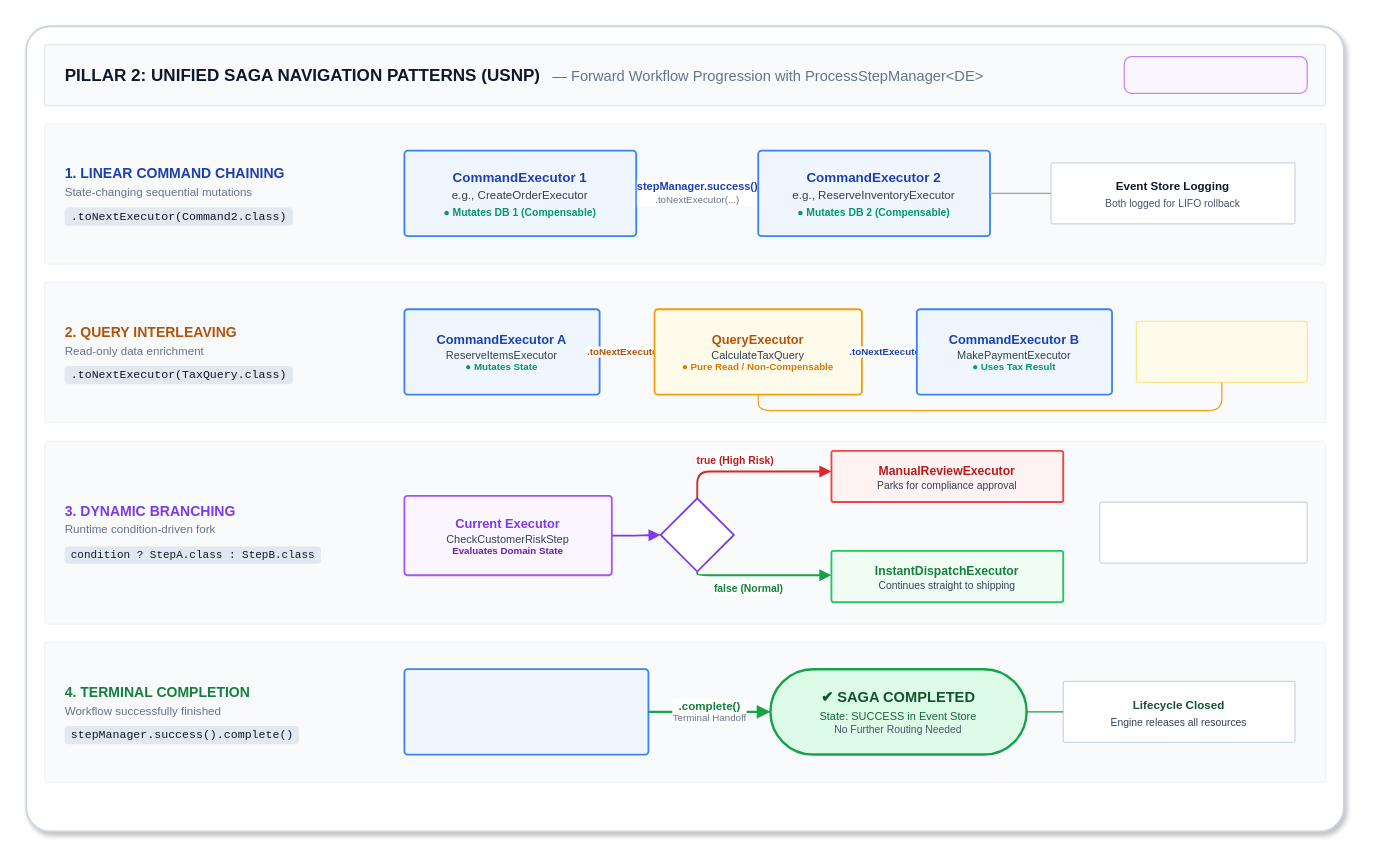
Image size: 1374x863. Some labels were removed from this diagram. The centre of each missing label's shape, as x and y in pixels:
"4 CORE TYPOLOGIES" belongs at pixel 1215 74.
"Dynamic Resolution Evaluated in Java at runtime" belongs at pixel 1203 532.
"Final Executor e.g., DeliverProductExecutor ● Last Step in Saga Workflow" belongs at pixel 526 711.
"High Risk?" belongs at pixel 696 534.
"Rollback Bypass Query is auto-skipped during compensation" belongs at pixel 1221 351.
